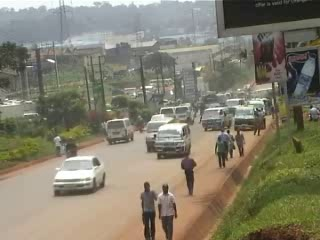Car: (49, 150, 107, 198), (147, 112, 170, 123)
Motorcycle: (58, 133, 79, 162), (133, 112, 146, 134)
